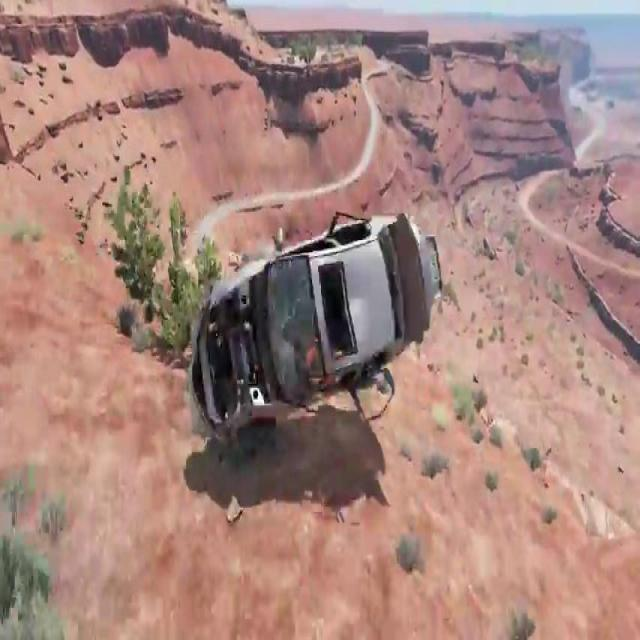severe: (185, 199, 445, 441)
